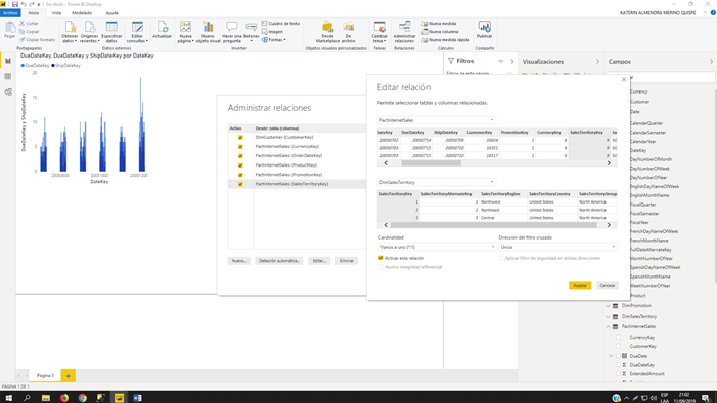

What the dashboard file says about the page in this screenshot:
{"tool":"powerbi","page":{"name":"Página 1","canvas":[1280,720],"ordinal":0},"visuals":[{"type":"clusteredColumnChart","fields":{"Y":["CountNonNull(FactInternetSales.DueDateKey)","CountNonNull(FactInternetSales.DueDateKey)","CountNonNull(FactInternetSales.ShipDateKey)"],"Category":["DimDate.DateKey"]},"box":[10.1,0,450.9,398.3],"z":0},{"type":"clusteredColumnChart","fields":{"Y":["CountNonNull(DimProductSubcategory.CategoryKey)","CountNonNull(DimProductCategory.CategoryKey)"]},"box":[461,0,483.4,360.3],"z":1000}]}

Visuals, with their boxes on the page's 1280x720 design canvas (x1, y1, x2, y2). These are canvas units, not pixel positions in the 717x403 screenshot, which may show the page scaled, cropped or inside an application window:
clusteredColumnChart - CountNonNull(FactInternetSales.DueDateKey) x CountNonNull(FactInternetSales.DueDateKey): bbox=[10, 0, 461, 398]
clusteredColumnChart - CountNonNull(DimProductSubcategory.CategoryKey) x CountNonNull(DimProductCategory.CategoryKey): bbox=[461, 0, 944, 360]
